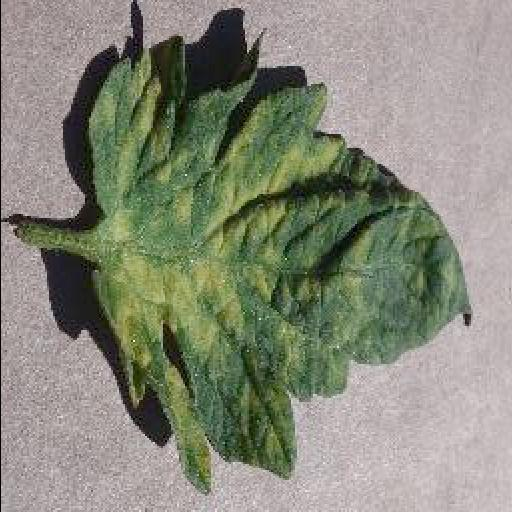disease_tomato: (86, 32, 474, 498)
